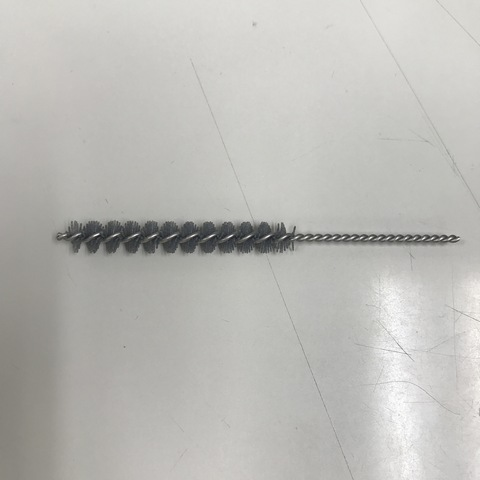Twist Brush-A: (51, 217, 468, 259)
